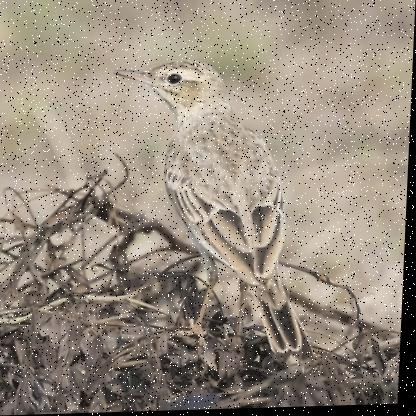Burung: (104, 53, 334, 381)
